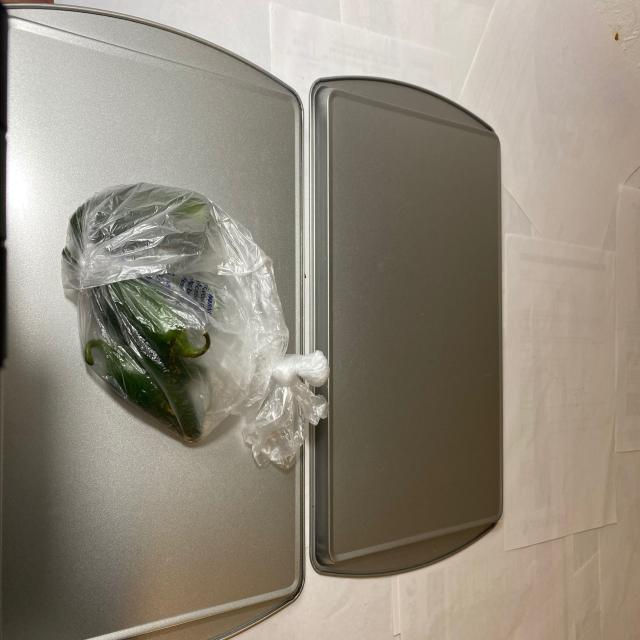chilli: (66, 176, 243, 452)
